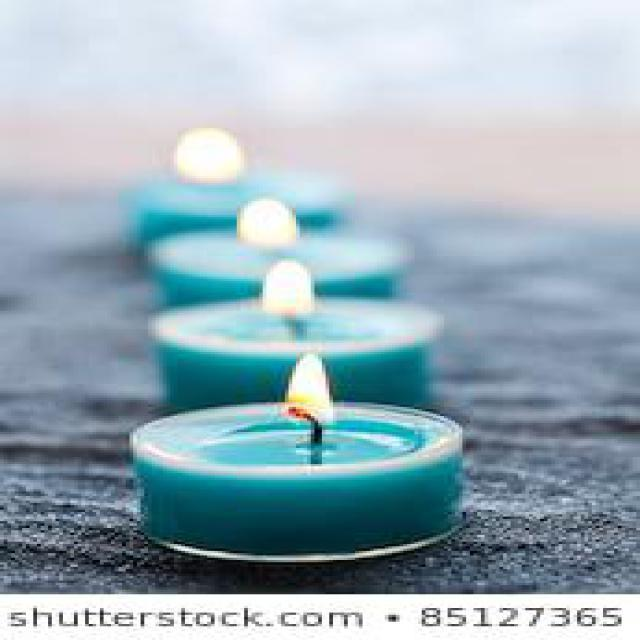Fire: (285, 352, 337, 434)
